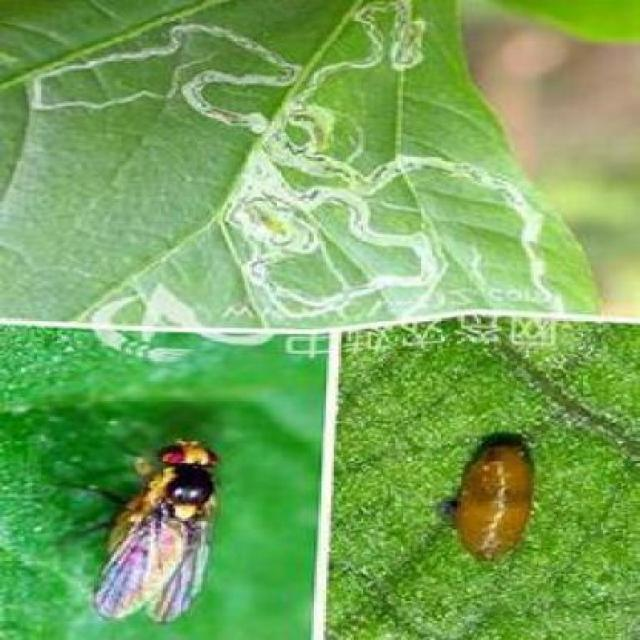whorl-maggot: (431, 422, 554, 569)
